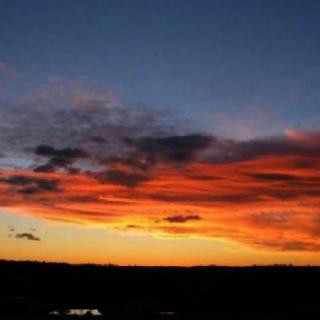Altostratus: (0, 1, 320, 264)
